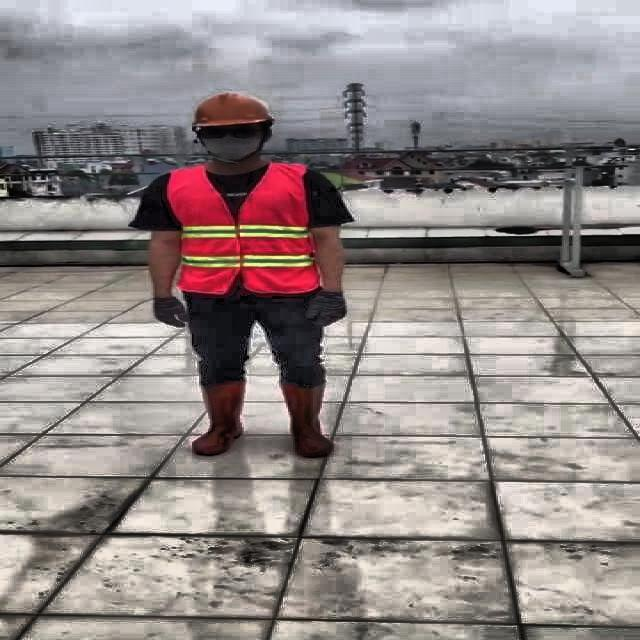safety_helmet: (194, 89, 273, 129)
safety_jacket: (167, 165, 317, 294)
